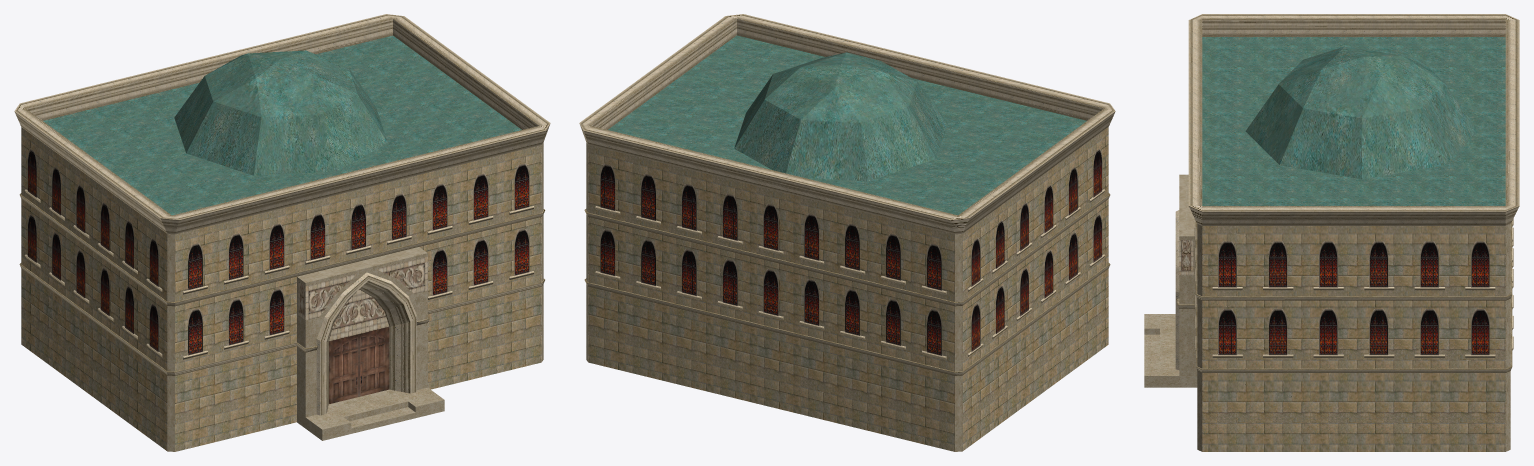
File: ply_nboo_house_m_s02_fp1_l1.fbx
The picture shows the model from 3 angles, left to right: view 1: azimuth 30°, elevation 25°; view 2: azimuth 150°, elevation 25°; view 3: azimuth 270°, elevation 25°; orthographic projection. The views are drawn at different scales.
Visible parts, largest first — view 1: mesh_node; view 2: mesh_node; view 3: mesh_node.
Part boxes in pixels (x1,y1,x2,y2): mesh_node: (14, 14, 550, 451); mesh_node: (579, 14, 1115, 451); mesh_node: (1144, 14, 1519, 451).
Size of the model in its own units: 18.12 by 12.87 by 14.55.
